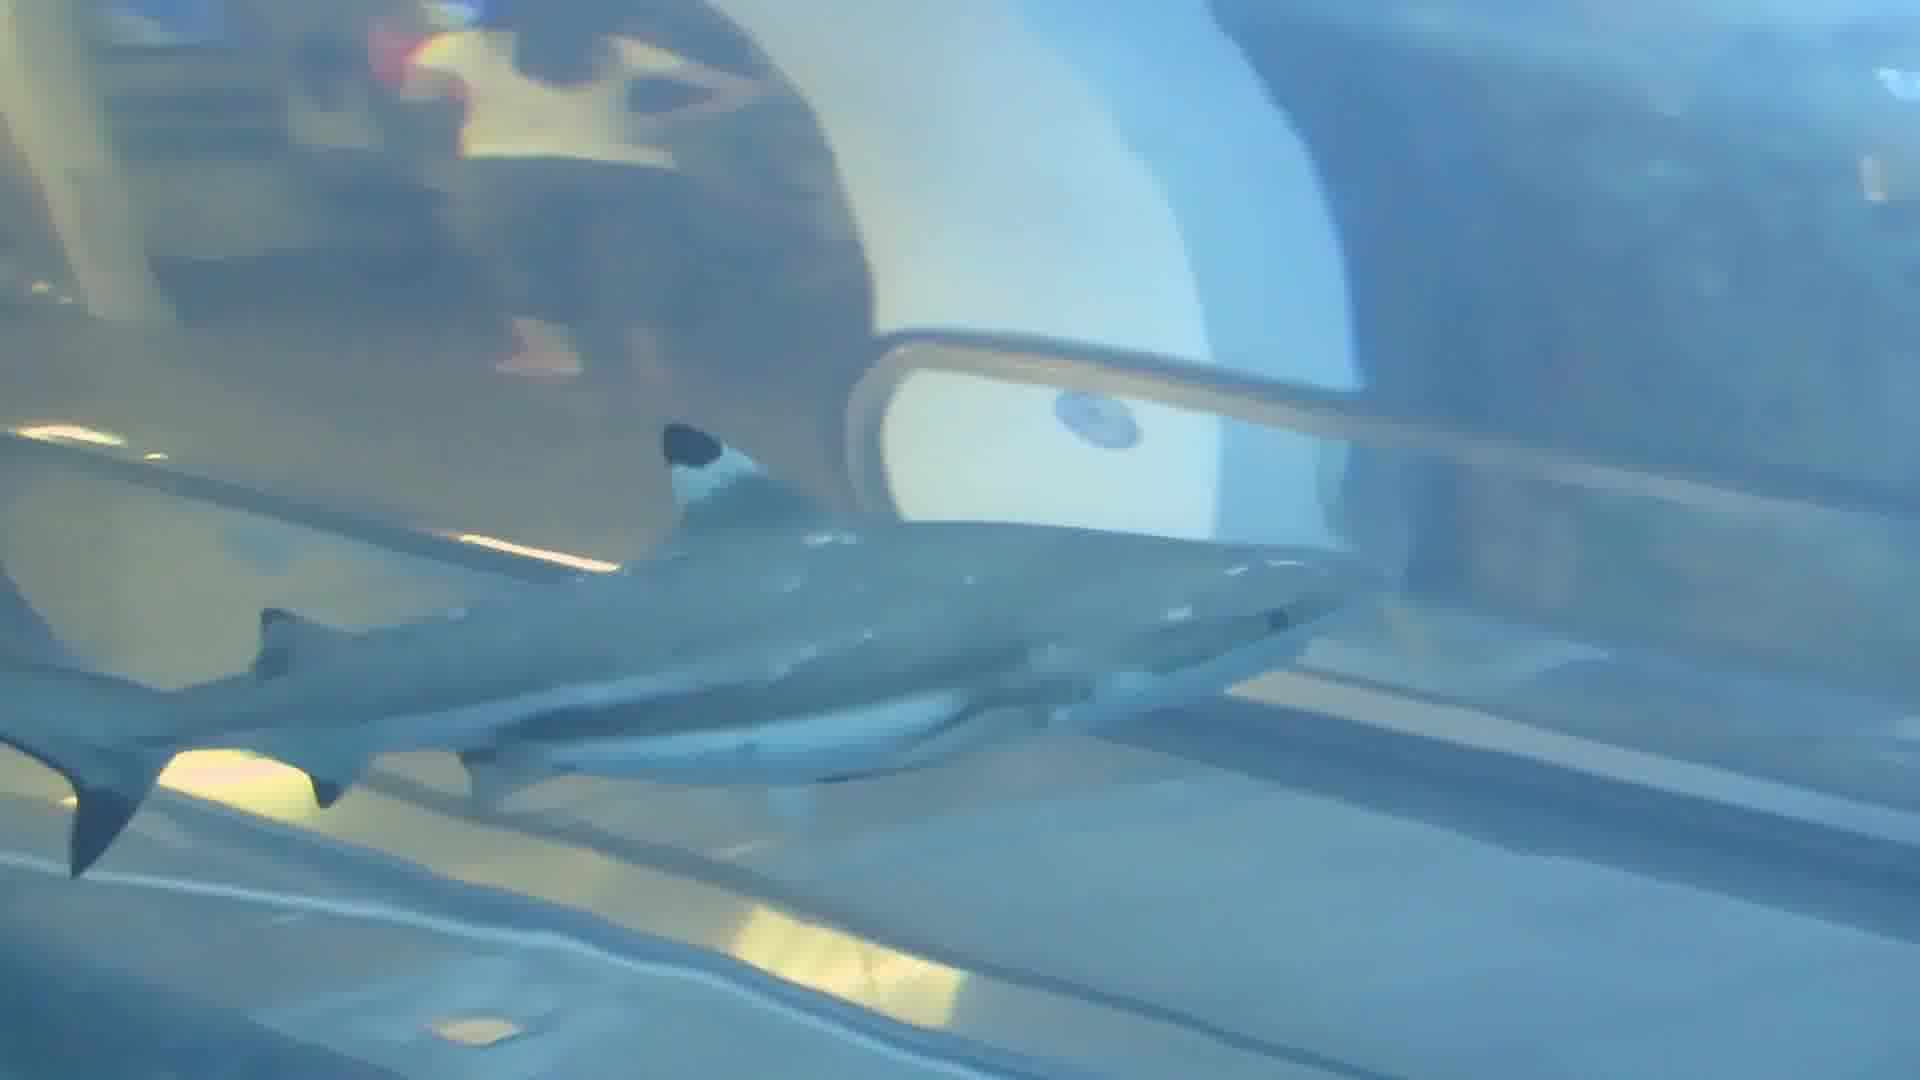Carcharhinus melanopterus: (1, 396, 1374, 905)
